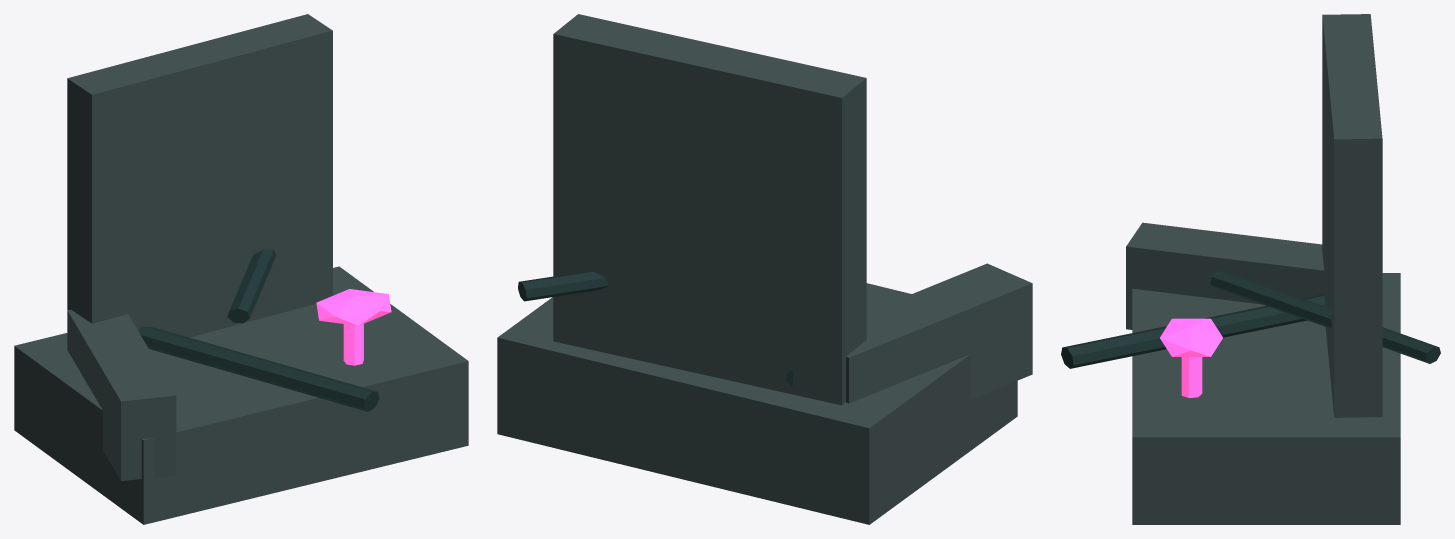
The model's file is df_v2_structure_shrine_a.glb.
3 views of the same model, side by side, from view 1: azimuth 30°, elevation 25°; view 2: azimuth 150°, elevation 25°; view 3: azimuth 270°, elevation 25° (orthographic). The views are drawn at different scales.
Parts seen in each view (by area): view 1: rear_slab, broken_plinth, fallen_side_slab, overgrown_root_0, shrine_glow_mushroom_cap, overgrown_root_1, shrine_glow_mushroom_stem; view 2: rear_slab, broken_plinth, fallen_side_slab, overgrown_root_1; view 3: broken_plinth, rear_slab, fallen_side_slab, overgrown_root_0, overgrown_root_1, shrine_glow_mushroom_cap, shrine_glow_mushroom_stem.
Part boxes in pixels (x1,y1,x2,y2): rear_slab: (67,14,332,337); broken_plinth: (14,266,468,524); fallen_side_slab: (67,309,176,481); overgrown_root_0: (138,326,379,411); shrine_glow_mushroom_cap: (316,289,391,325); overgrown_root_1: (227,249,276,323); shrine_glow_mushroom_stem: (343,324,363,365); rear_slab: (553,14,866,405); broken_plinth: (497,283,1017,524); fallen_side_slab: (846,263,1032,403); overgrown_root_1: (518,271,608,301); broken_plinth: (1132,273,1400,524); rear_slab: (1322,14,1382,417); fallen_side_slab: (1126,222,1324,329); overgrown_root_0: (1061,294,1325,368); overgrown_root_1: (1210,270,1440,363); shrine_glow_mushroom_cap: (1160,318,1222,356); shrine_glow_mushroom_stem: (1181,357,1202,397).
Bounding box in the file's own units: 1.53 × 1.5 × 1.42.
